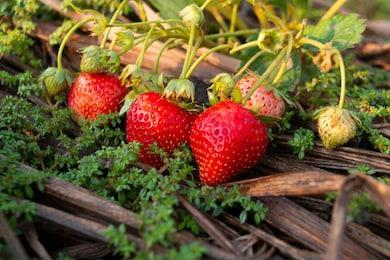Fresa: (187, 97, 269, 195), (119, 87, 202, 173), (62, 63, 134, 131)
